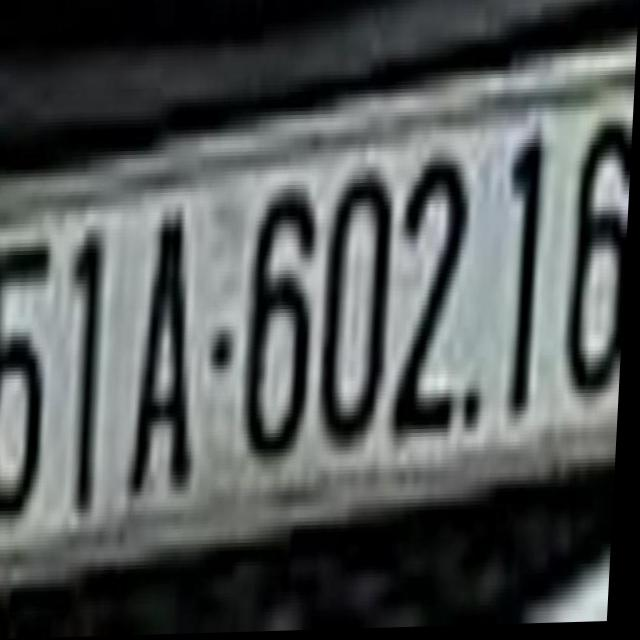0: (323, 161, 403, 469)
1: (496, 130, 555, 469), (66, 226, 112, 533)
2: (396, 163, 475, 452)
5: (0, 239, 59, 535)
6: (244, 171, 322, 490), (569, 94, 635, 437)
A: (132, 200, 213, 528)
